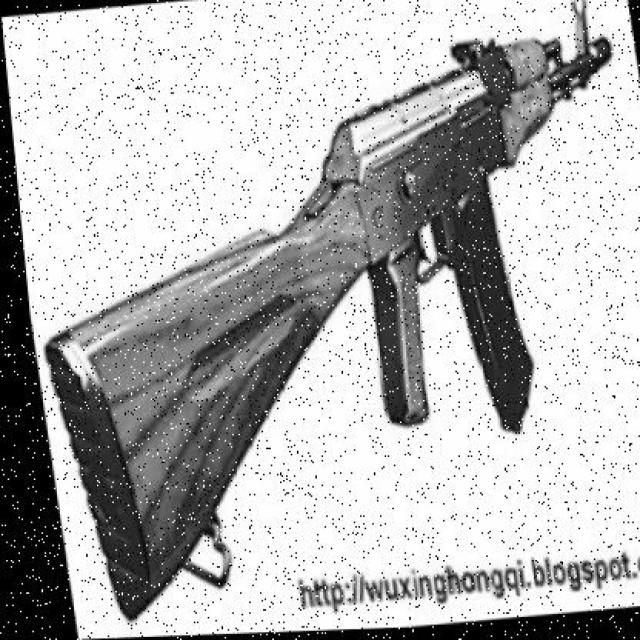weapon: (44, 1, 611, 618)
